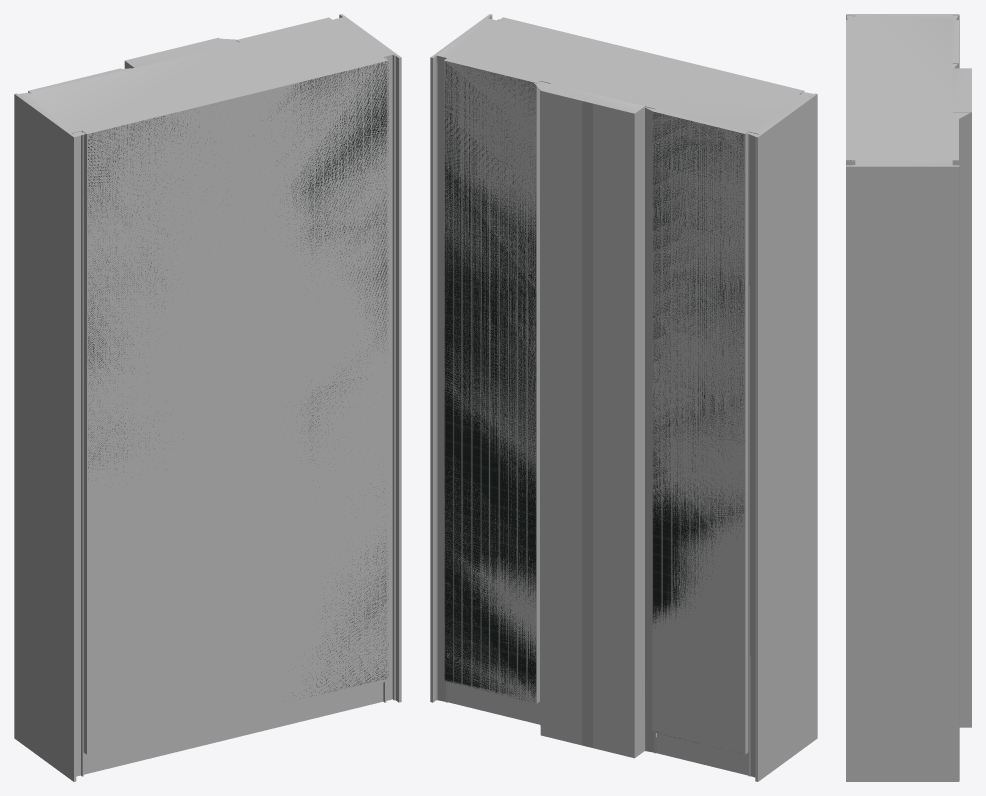
The picture shows the model from 3 angles, left to right: view 1: azimuth 30°, elevation 25°; view 2: azimuth 150°, elevation 25°; view 3: azimuth 270°, elevation 25°; orthographic projection. The views are drawn at different scales.
Visible parts, largest first — view 1: BC-027, BC-027_LOD; view 2: BC-027_LOD, BC-027; view 3: BC-027_LOD, BC-027.
Boxes of the visible parts, bbox=[...] form: BC-027: bbox=[14, 14, 401, 781]; BC-027_LOD: bbox=[14, 14, 401, 781]; BC-027_LOD: bbox=[430, 14, 817, 781]; BC-027: bbox=[430, 14, 817, 781]; BC-027_LOD: bbox=[846, 14, 971, 781]; BC-027: bbox=[846, 14, 971, 781].
Size of what is drawn, in the model's own units: 57.45 by 108 by 20.04.
